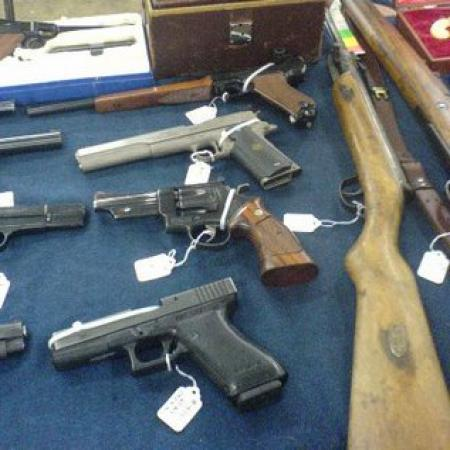Pistol: (44, 276, 300, 406), (91, 177, 321, 287), (72, 106, 312, 192)
